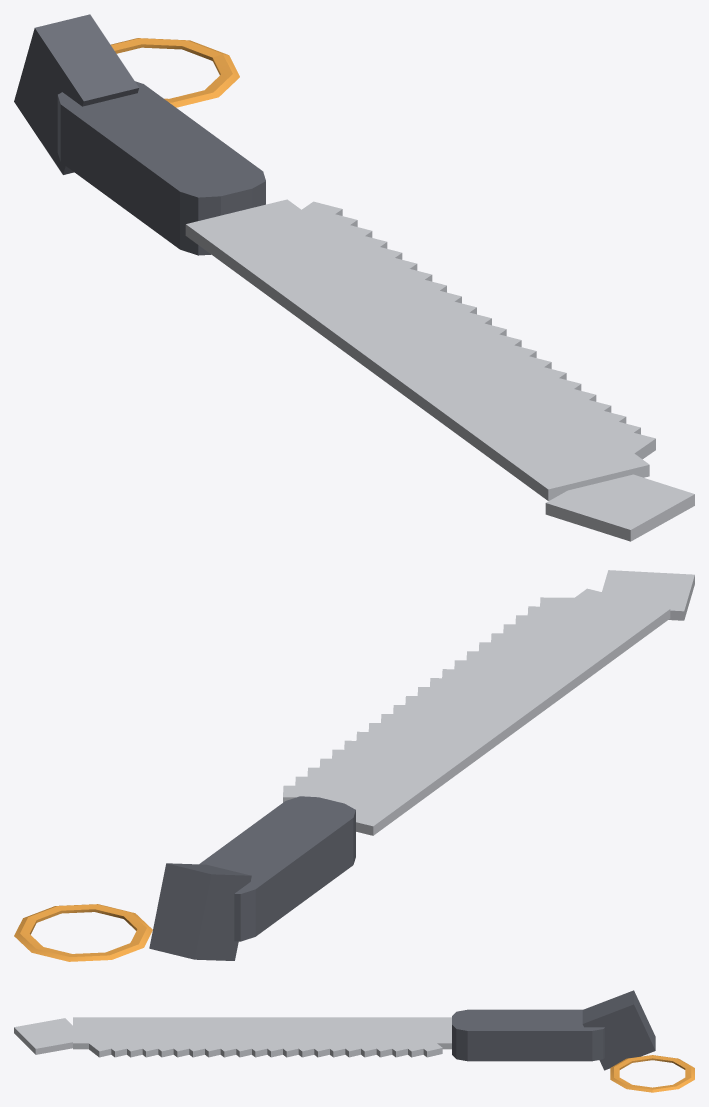
Rendered from backcountry-snowboarding-and-avalanche-safety-snow-saw-1212f163__18936.glb.
3 views of the same model, one above another, from view 1: azimuth 30°, elevation 25°; view 2: azimuth 150°, elevation 25°; view 3: azimuth 270°, elevation 25° (orthographic). The views are drawn at different scales.
Parts seen in each view (by area): view 1: snow-saw; view 2: snow-saw; view 3: snow-saw.
Boxes of the visible parts, x1,y1,x2,y2 form: snow-saw: (14,14,694,541); snow-saw: (14,570,694,961); snow-saw: (14,990,694,1092).
Size of the model in its own units: 0.1328 by 0.0655 by 0.6108.
